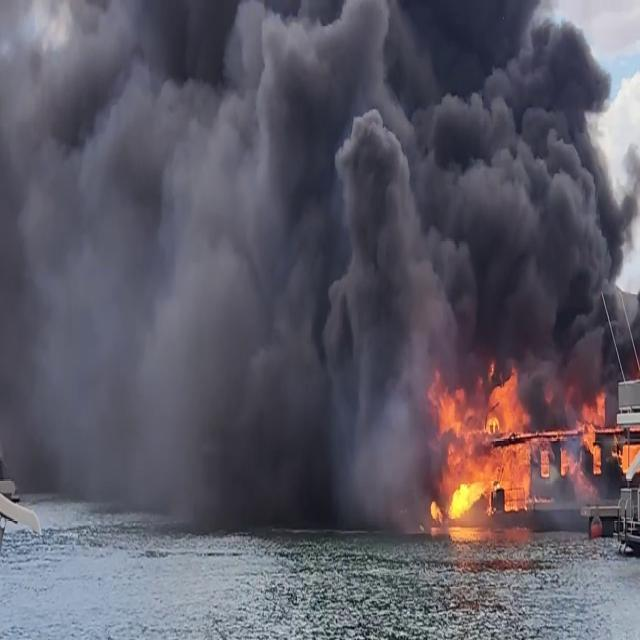Fire: (428, 369, 538, 530), (572, 388, 609, 478)
Smoke: (0, 1, 640, 522)
